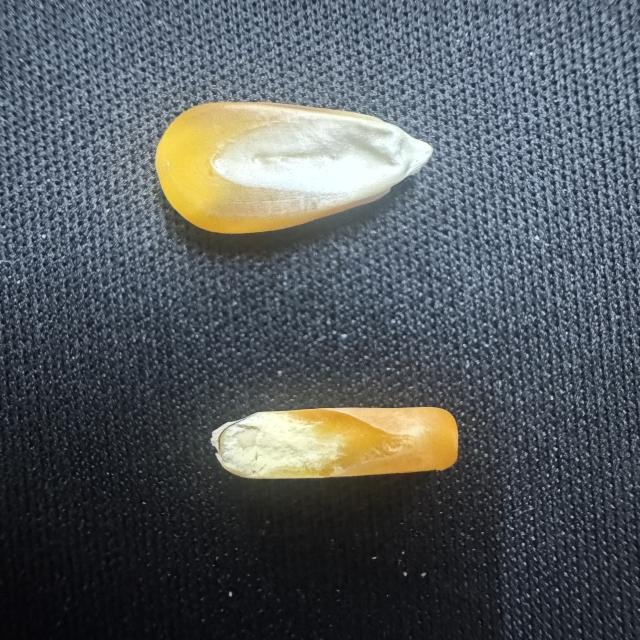Bad-Seed: (206, 402, 475, 495)
Good-Seed: (151, 96, 446, 254)
